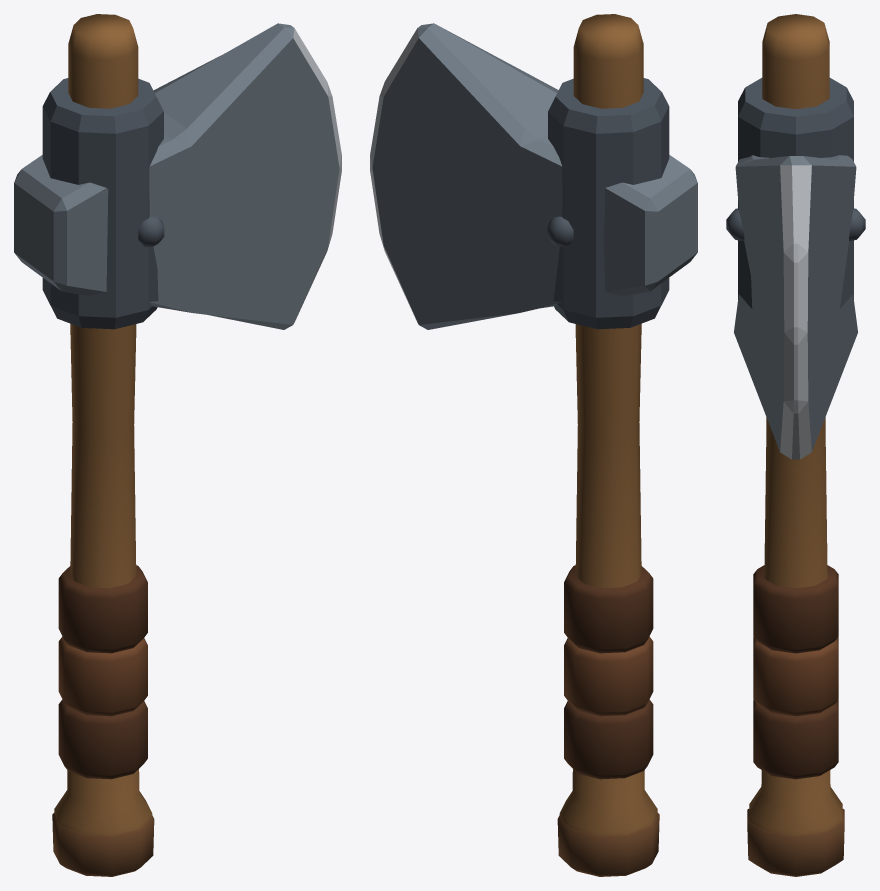
The model's file is iron-axe.glb.
3 views of the same model, side by side, from view 1: azimuth 30°, elevation 25°; view 2: azimuth 150°, elevation 25°; view 3: azimuth 270°, elevation 25° (orthographic).
Visible parts, largest first — view 1: iron_axe; view 2: iron_axe; view 3: iron_axe.
Boxes of the visible parts, <box> form: iron_axe: <box>14,14,341,876</box>; iron_axe: <box>370,14,697,876</box>; iron_axe: <box>726,14,865,876</box>.
Bounding box in the file's own units: 0.3316 × 0.86 × 0.1304.
